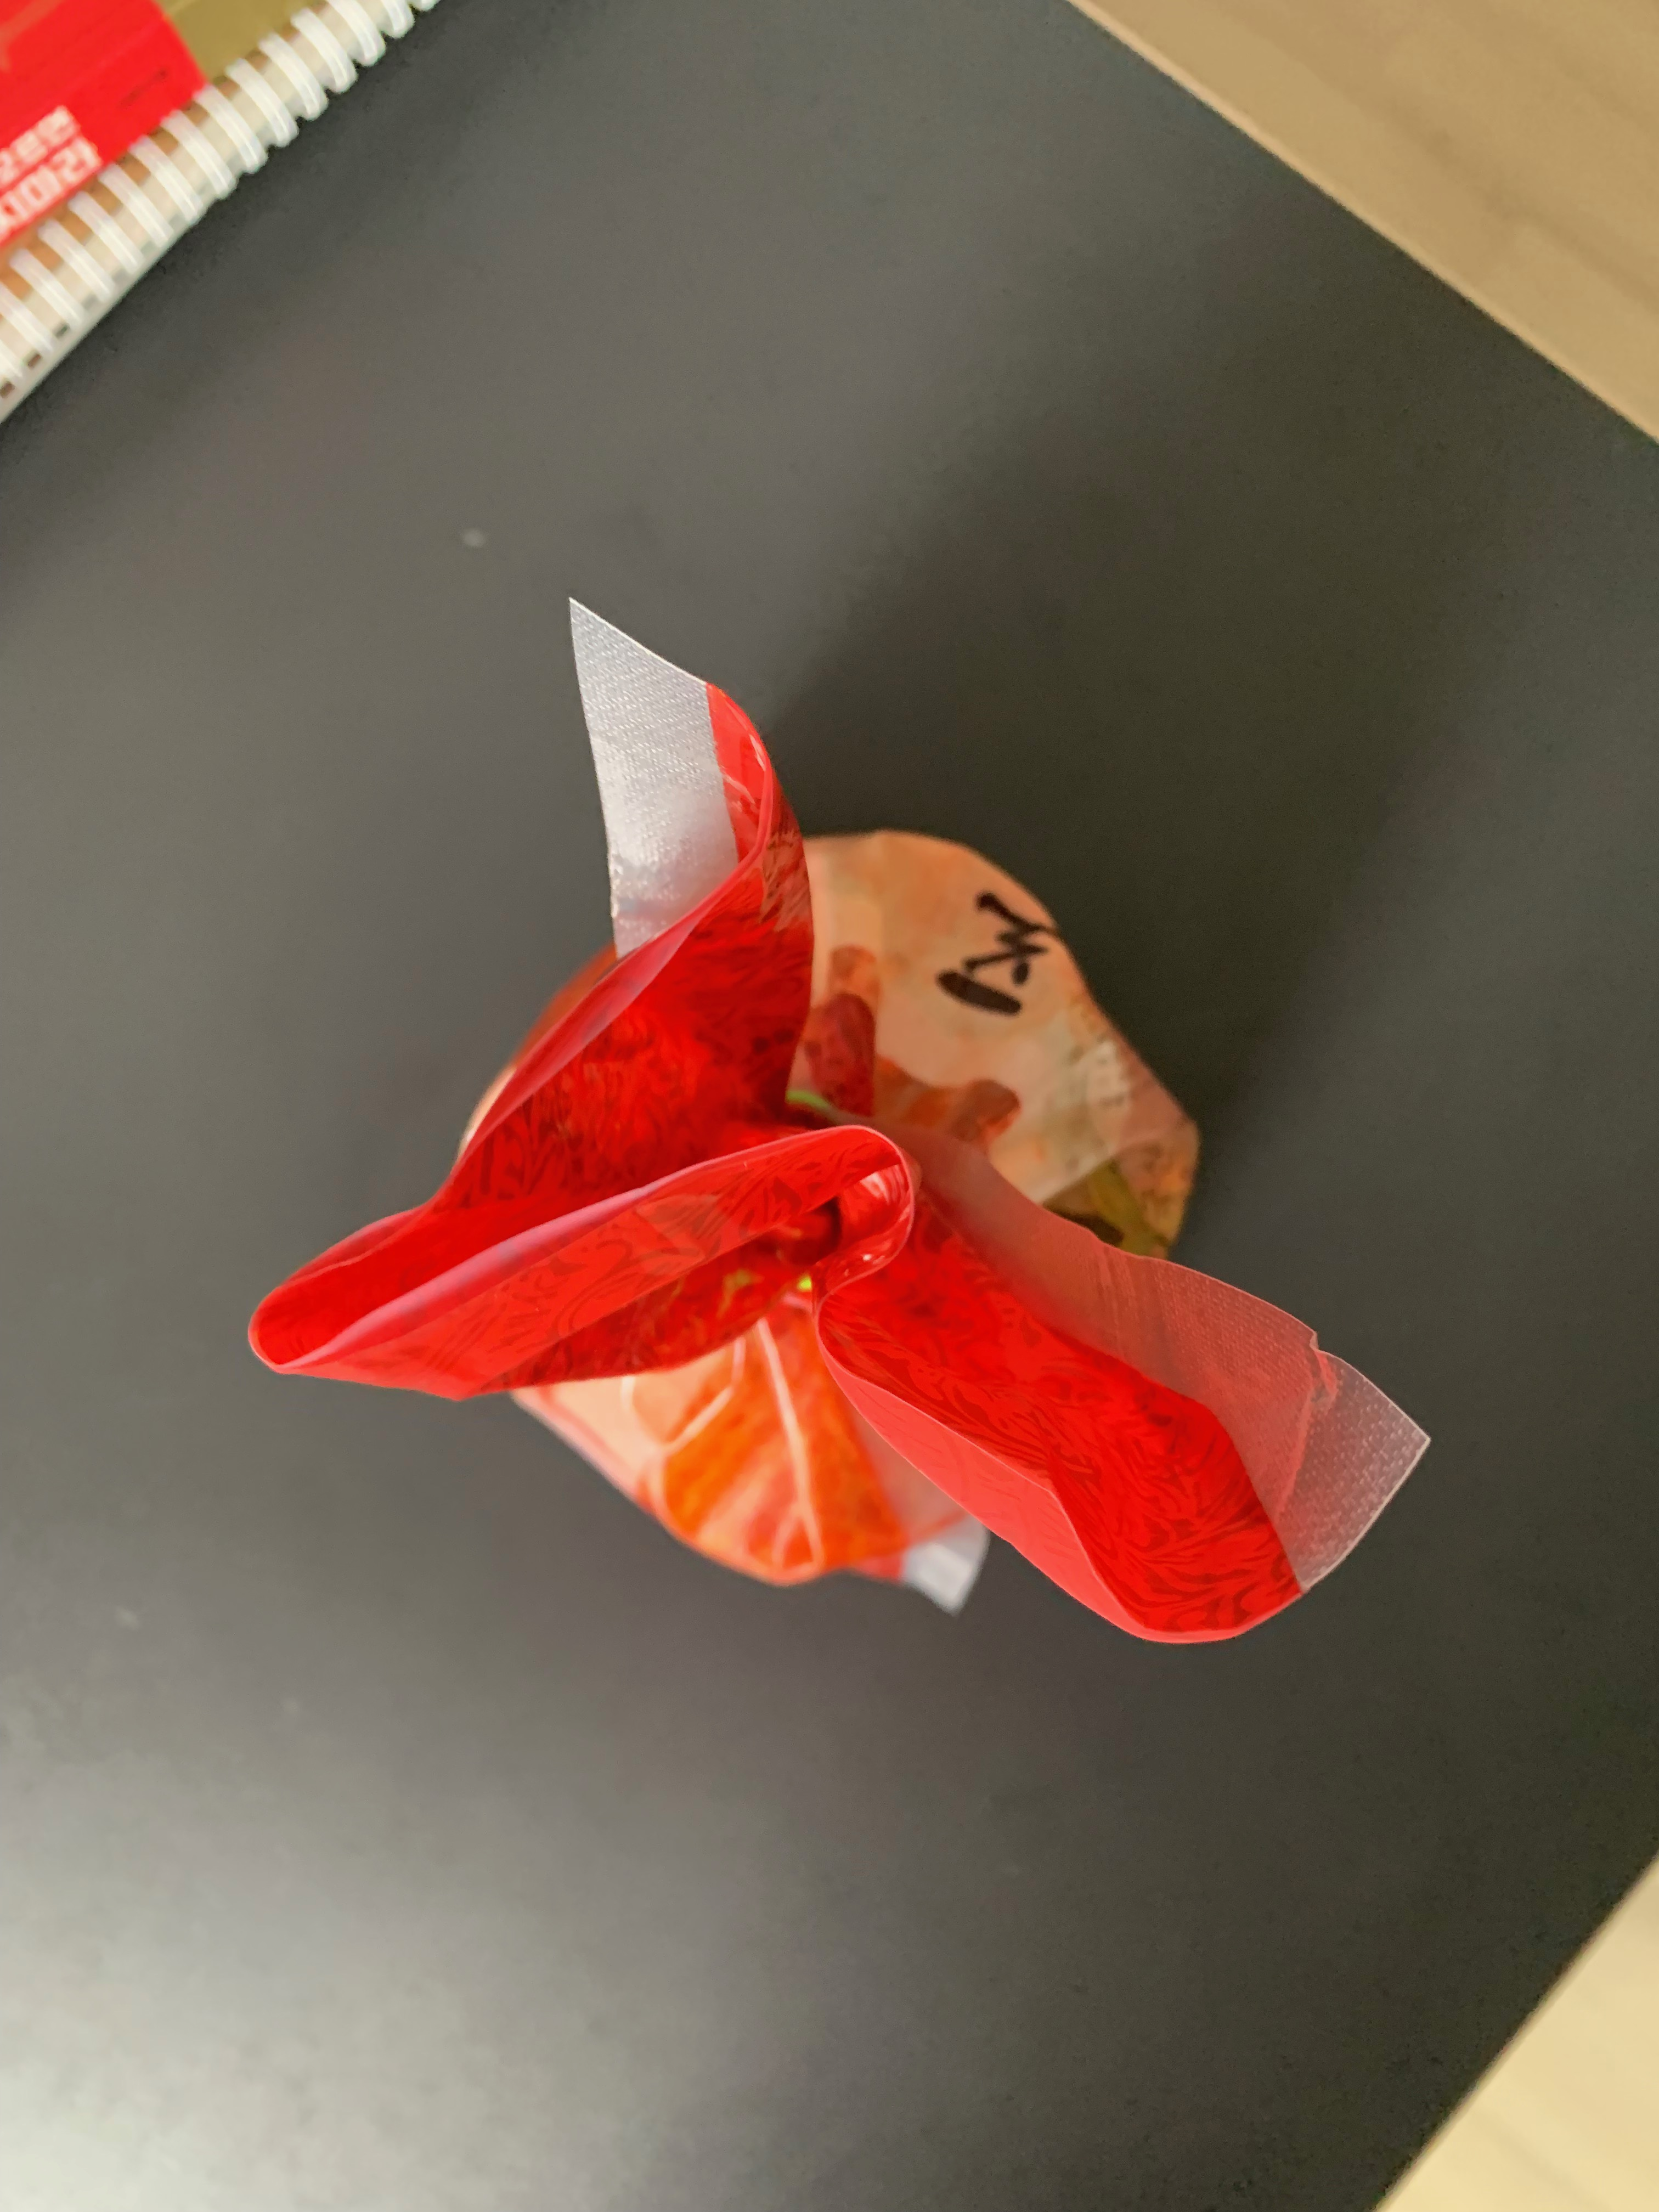kimchi: (242, 826, 1312, 1646)
